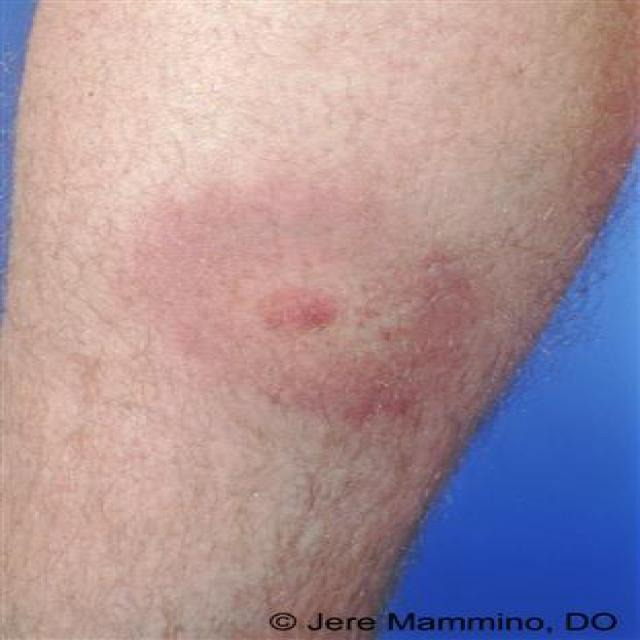Ringworm: (130, 138, 502, 447)
